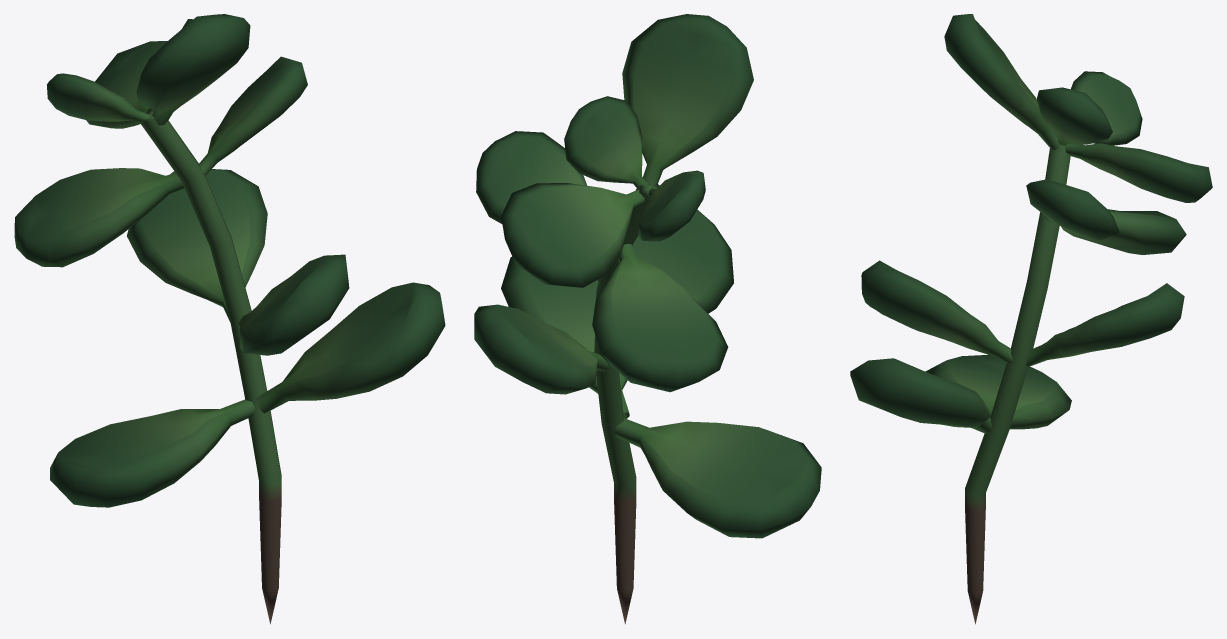
The model's file is plants-cacti-succulents-jade-plant_v2.fbx.
3 renders of one model, left to right at view 1: azimuth 30°, elevation 25°; view 2: azimuth 150°, elevation 25°; view 3: azimuth 270°, elevation 25°, orthographic. The views are drawn at different scales.
Visible parts, largest first — view 1: Jade Plant_v2; view 2: Jade Plant_v2; view 3: Jade Plant_v2.
Part boxes in pixels (<box>): Jade Plant_v2: <box>14,14,445,624</box>; Jade Plant_v2: <box>474,14,821,624</box>; Jade Plant_v2: <box>850,14,1212,624</box>.
Size of the model in its own units: 0.169 by 0.3 by 0.1708.
